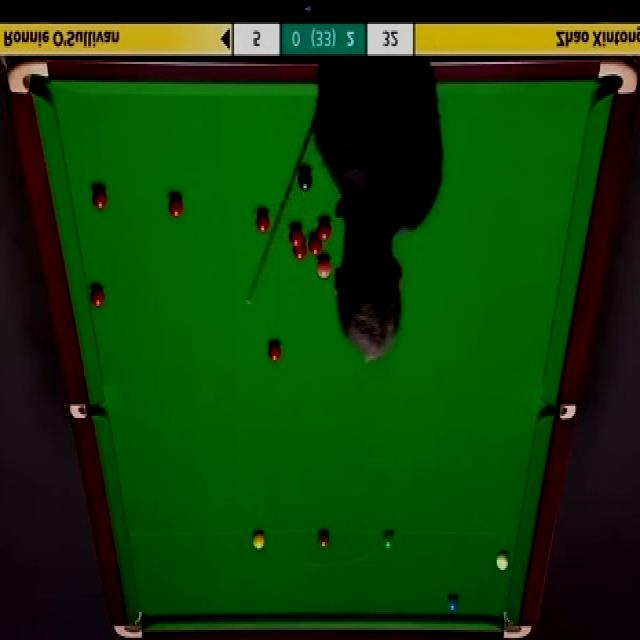black-ball: (298, 168, 312, 190)
blue-ball: (448, 596, 462, 613)
brown-ball: (318, 530, 331, 550)
green-ball: (381, 529, 395, 550)
pink-ball: (316, 256, 332, 281)
red-ball: (255, 208, 271, 235), (168, 194, 184, 220), (90, 286, 106, 310), (91, 190, 108, 211), (310, 238, 326, 260), (317, 220, 332, 243), (267, 340, 282, 362), (293, 239, 307, 262), (289, 226, 303, 247)
white-ball: (496, 552, 508, 570)
yellow-ball: (251, 530, 266, 551)
